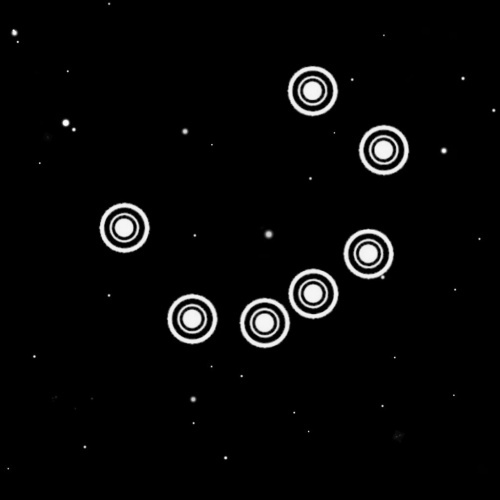corona_borealis: (90, 52, 422, 355)
